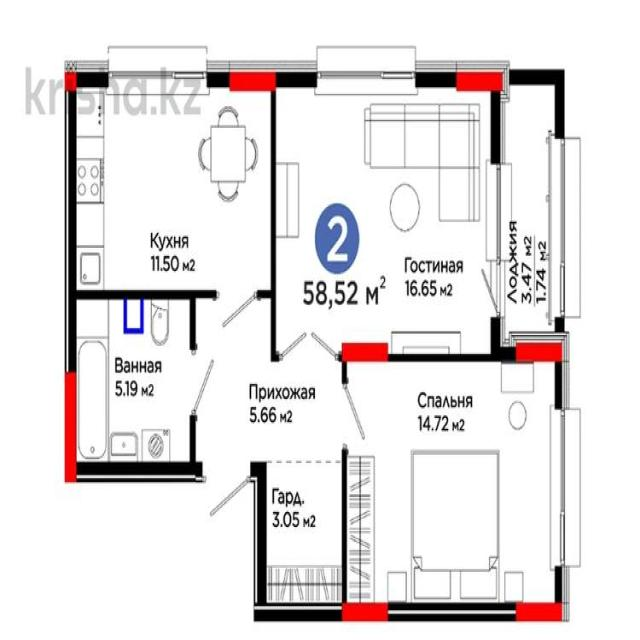balcony: (502, 79, 564, 353)
bathroom: (66, 297, 193, 471)
hallway: (192, 357, 346, 459)
kitchen: (70, 68, 274, 296)
living_room: (271, 79, 501, 354), (346, 360, 568, 616)
other: (261, 460, 344, 607)
